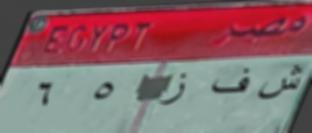5: (93, 78, 114, 105)
6: (33, 78, 57, 113)
faa: (206, 64, 250, 101)
sheen: (256, 63, 303, 101)
zay: (159, 70, 189, 106)
